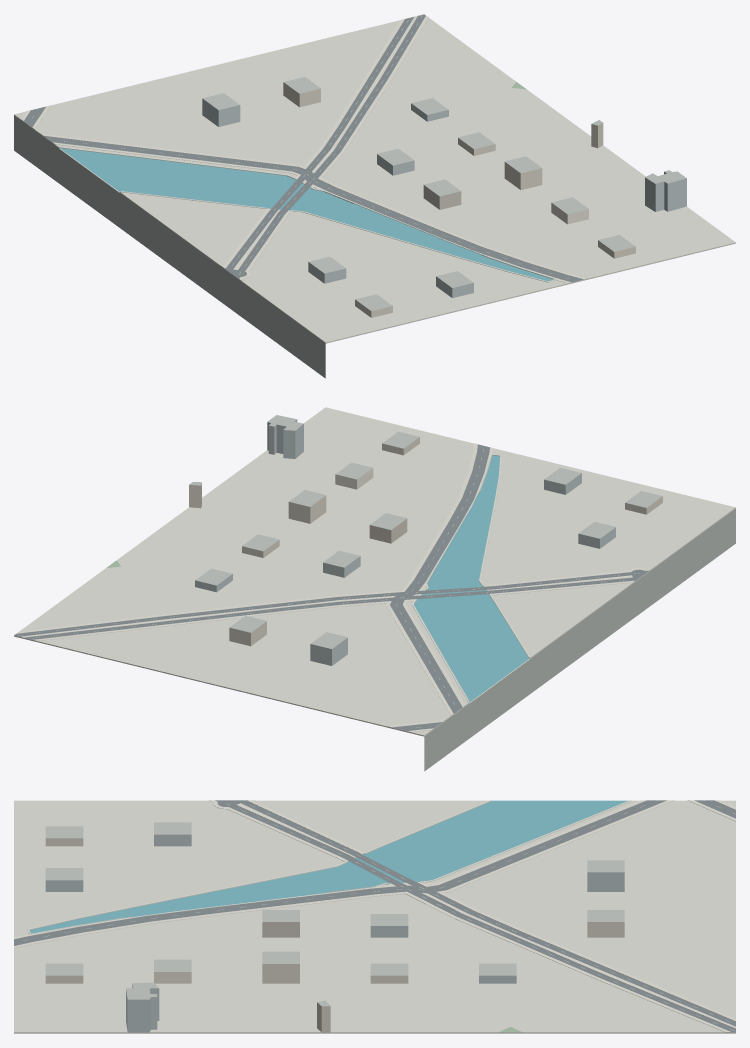
The picture shows the model from 3 angles, top to bottom: view 1: azimuth 30°, elevation 25°; view 2: azimuth 150°, elevation 25°; view 3: azimuth 270°, elevation 25°; orthographic projection. The views are drawn at different scales.
Parts seen in each view (by area): view 1: city; view 2: city; view 3: city.
Boxes of the visible parts, x1=… form: city: x1=14, y1=14, x2=735, y2=378; city: x1=14, y1=407, x2=735, y2=771; city: x1=14, y1=800, x2=735, y2=1033.
Size of the model in its own units: 380 by 57 by 500.
